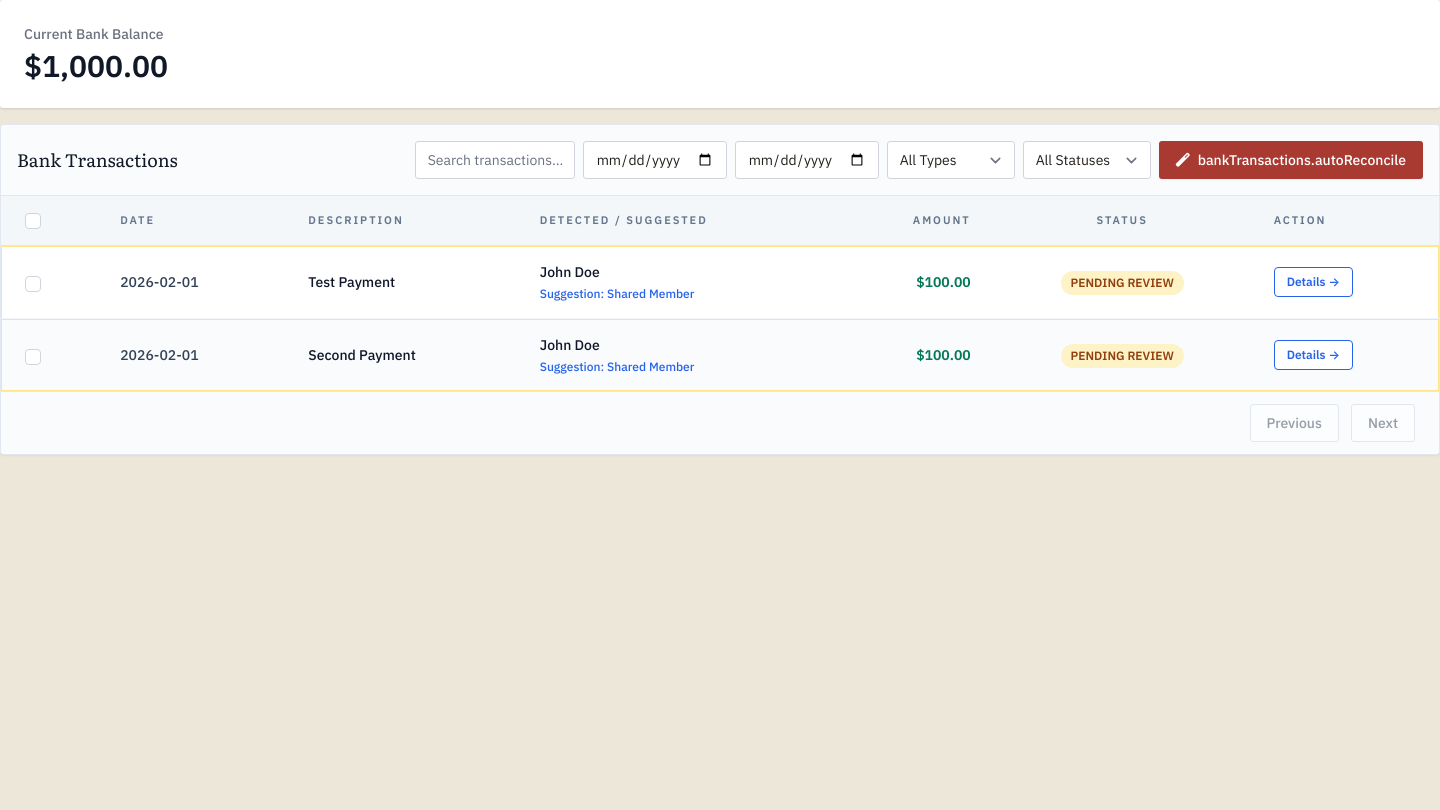
Test: BankTransactionList › shows shared suggested member in bulk link modal when all selected transactions agree
Expected: the text "Second Payment" is shown, [308, 346, 416, 364]
What coordinates should you click on to do the following:
click the checkbox next to "Date"
I would click on:
 (33, 221)
Its box is [25, 213, 41, 229].
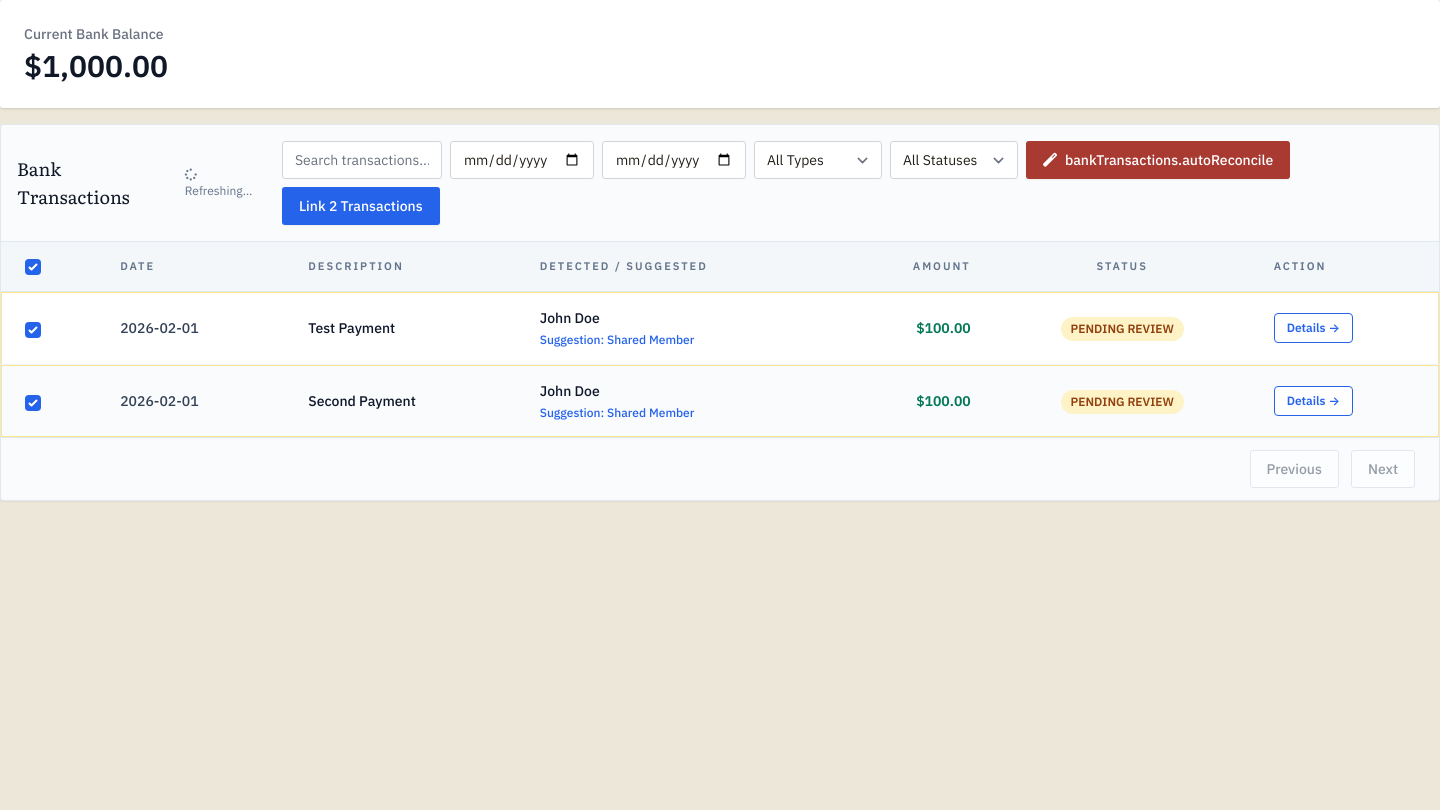
What coordinates should you click on to do the following:
click the button "Link 2 Transactions"
I would click on:
 (361, 206)
Its box is [282, 187, 440, 225].
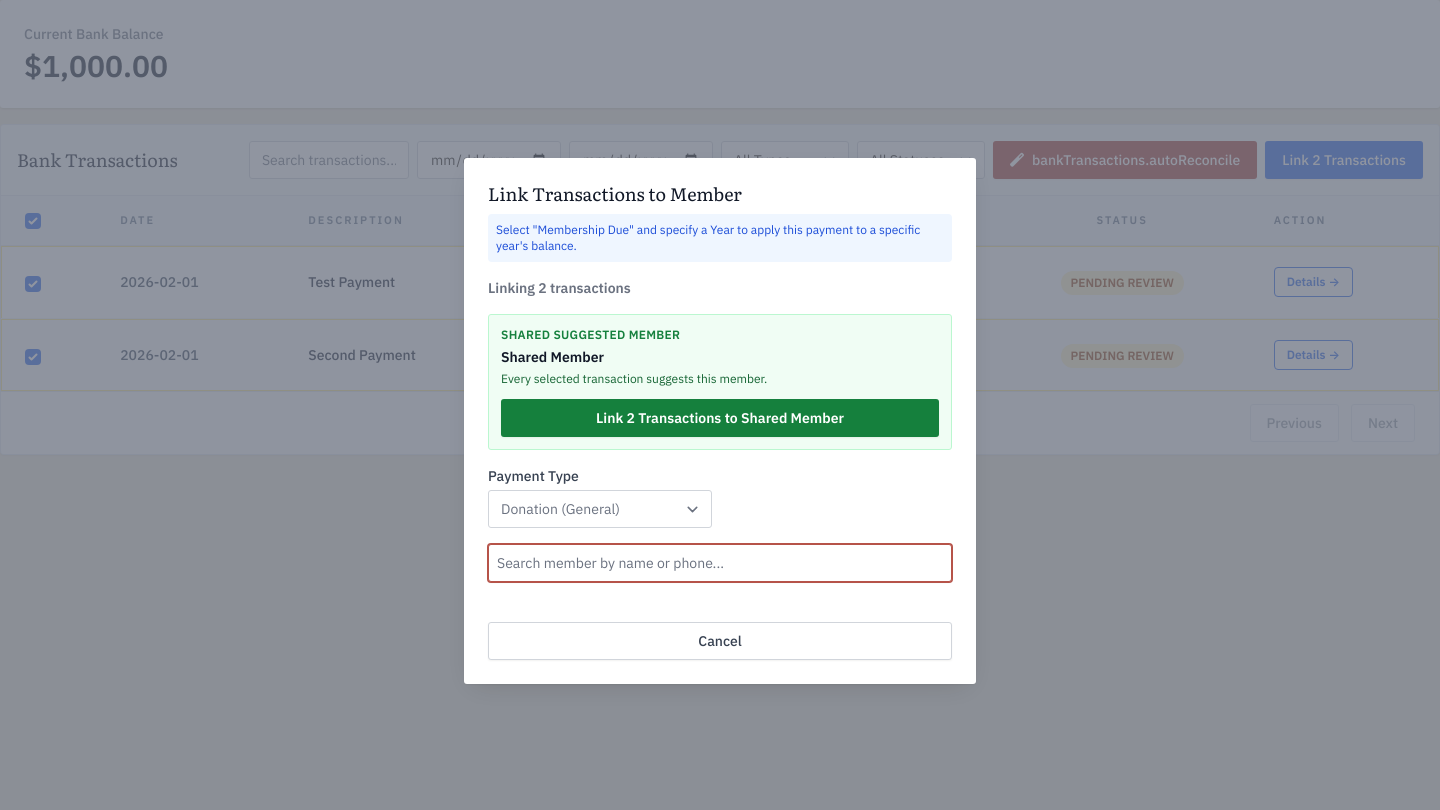
Expected: the text "Shared Suggested Member" is shown, [501, 327, 680, 342]
Expected: the text "Every selected transaction suggests this member." is shown, [501, 371, 767, 386]
Expected: the button "Link 2 Transactions to Shared Member" is shown, [501, 399, 939, 437]
